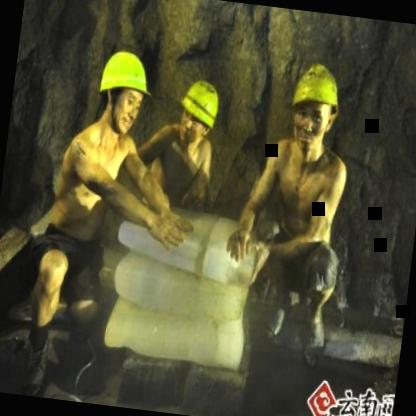helmet: (279, 55, 347, 159), (88, 41, 158, 140), (171, 73, 227, 158)
